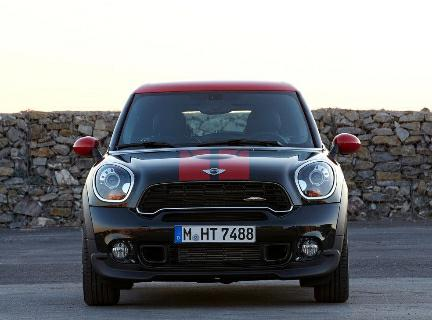MINI-JCWPACEMAN: (78, 83, 356, 298)
